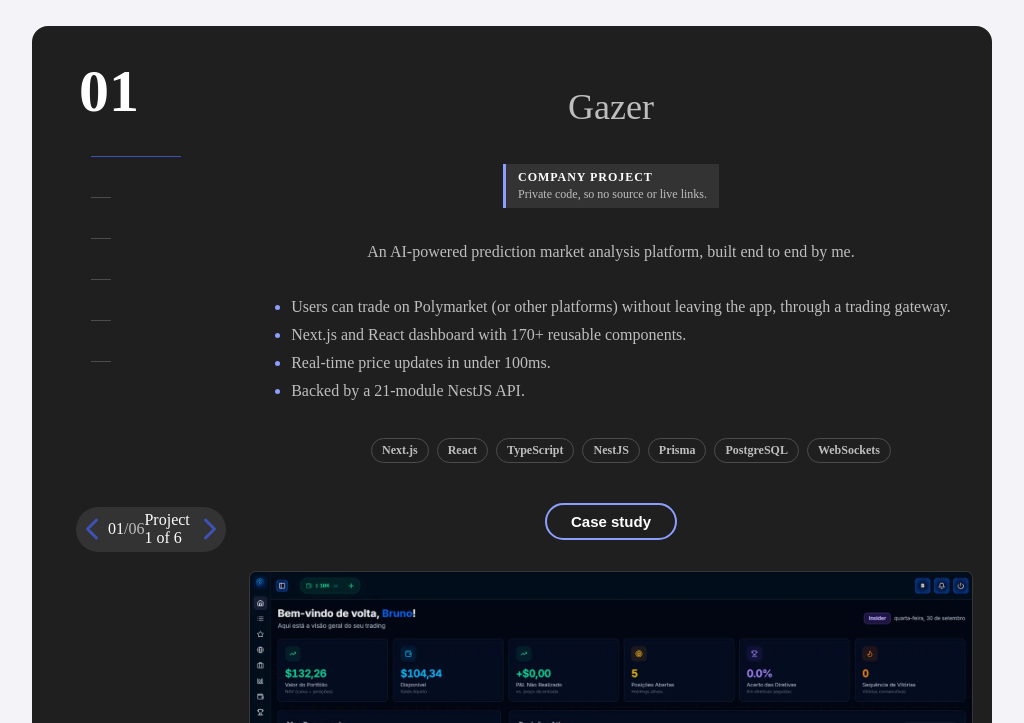
Test: Portfolio › screenshot gallery › gives BR.Money two screenshots
The width and height of the screenshot is (1024, 723).
Click the button named "Next project". click: (210, 529)
box: [194,513,226,545]
(page scrolled)
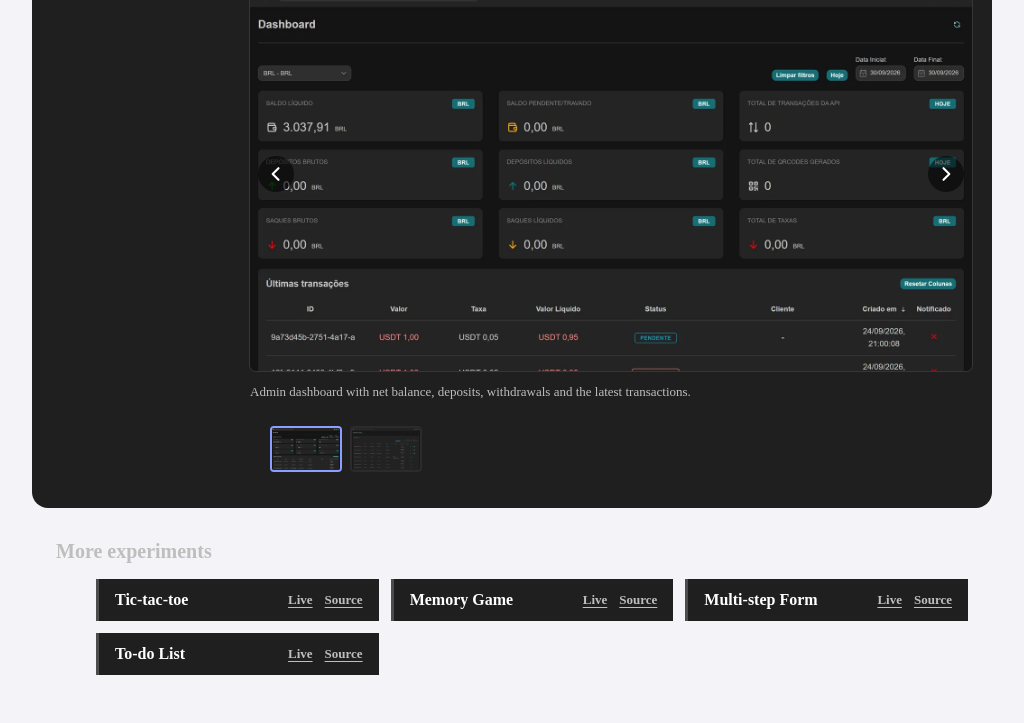
Expected: the text "Admin dashboard with net balance" is shown, [250,384,691,399]
